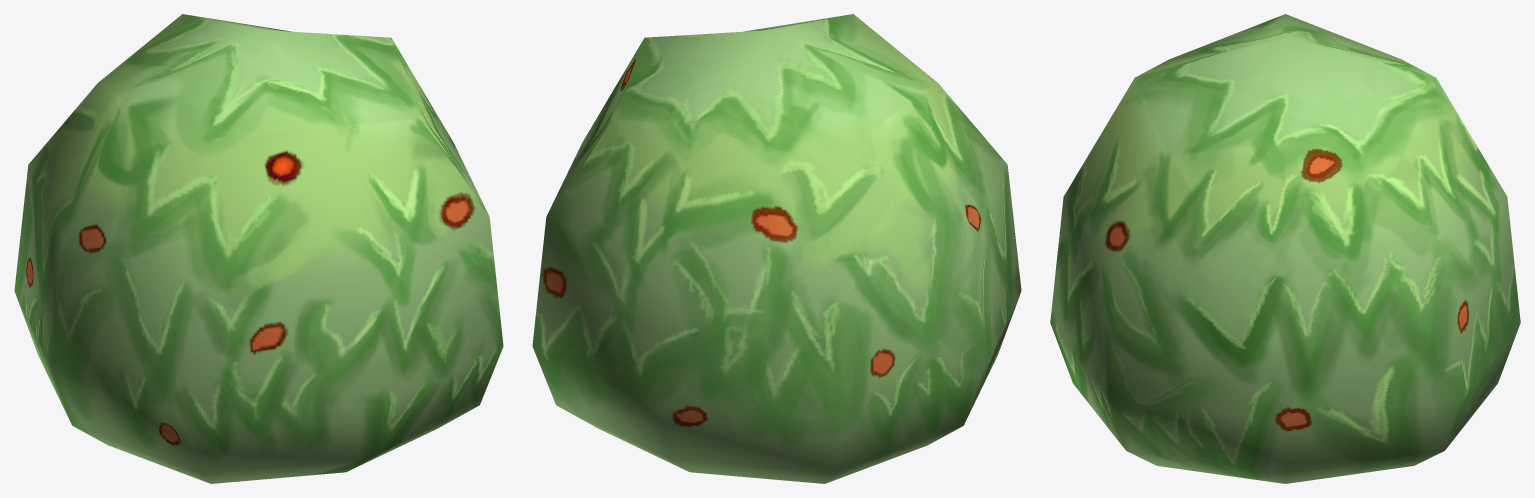
File: BERRYS.fbx
3 views of the same model, side by side, from view 1: azimuth 30°, elevation 25°; view 2: azimuth 150°, elevation 25°; view 3: azimuth 270°, elevation 25° (orthographic).
Visible parts, largest first — view 1: Cube.004; view 2: Cube.004; view 3: Cube.004.
Boxes of the visible parts, x1,y1,x2,y2 form: Cube.004: (14,14,503,483); Cube.004: (532,14,1021,483); Cube.004: (1050,14,1520,483).
Bounding box in the file's own units: 92.88 × 81.33 × 92.88.
